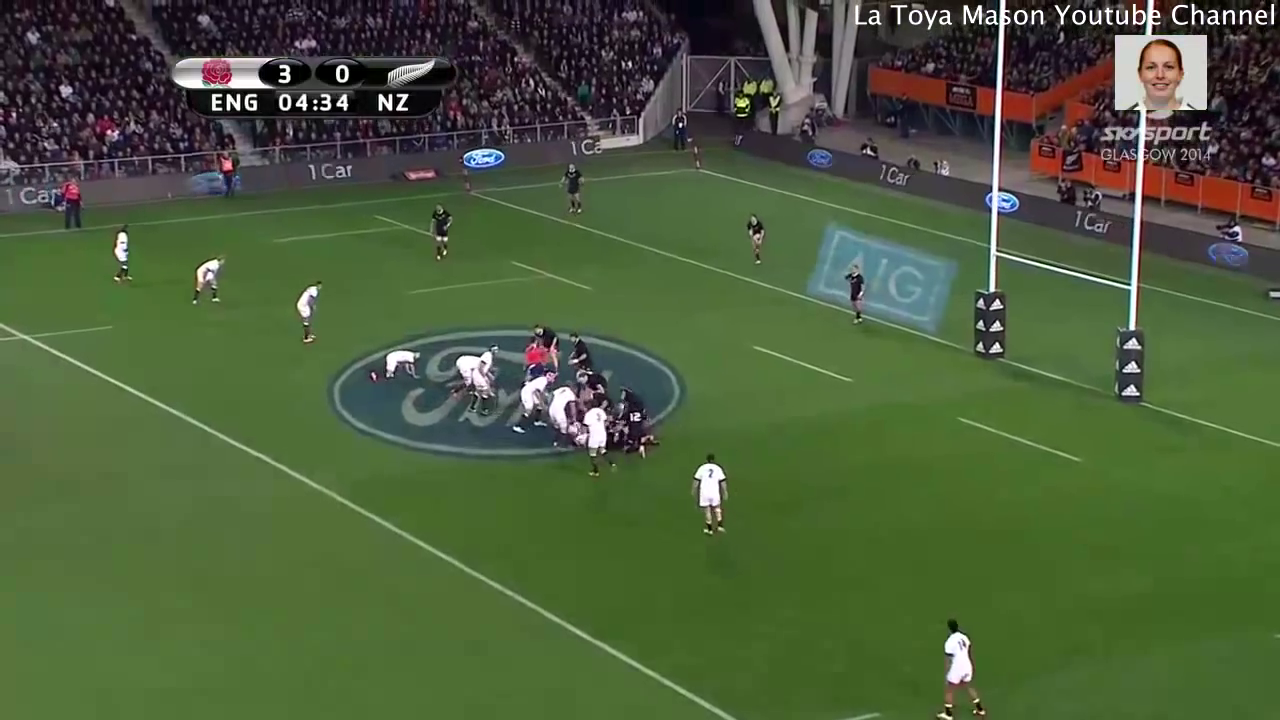player: (929, 612, 991, 720), (689, 450, 737, 542), (580, 401, 622, 485), (185, 247, 236, 310), (511, 366, 556, 434), (104, 215, 141, 296), (472, 335, 507, 418), (365, 341, 429, 385), (421, 195, 456, 272), (294, 274, 329, 348), (548, 378, 581, 451), (735, 208, 769, 270), (527, 320, 562, 378), (557, 157, 589, 218), (840, 259, 868, 326), (624, 401, 647, 460), (445, 343, 472, 390), (560, 323, 585, 371), (573, 363, 604, 394), (617, 384, 647, 413)
post: (961, 1, 1167, 414)
ruck: (524, 367, 643, 465)
